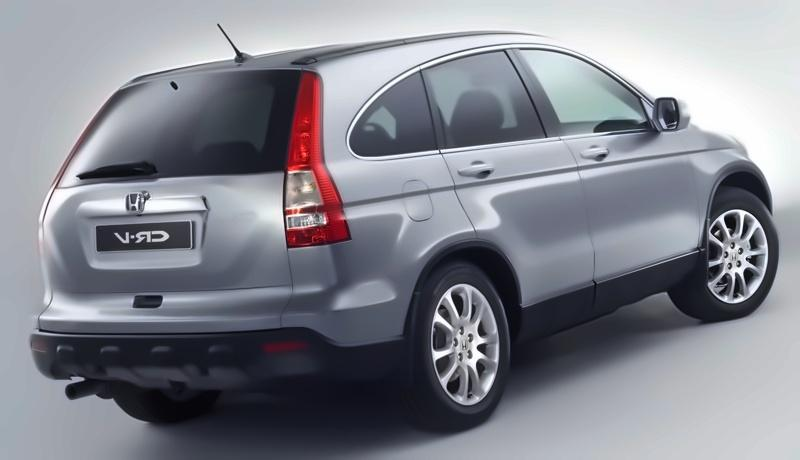Car boot: (36, 65, 306, 337)
Driver-s door - -F-R-: (519, 42, 701, 319)
Fender - -F-R-: (681, 114, 756, 261)
Fender - -R-R-: (340, 150, 483, 316)
Passenger-s door - -R-R-: (419, 41, 594, 311)
Rear bumper: (17, 248, 420, 399)
Rear light - -R-: (277, 63, 359, 256)
Side bumper - -R-: (508, 243, 717, 351)
Side mirror - -R-: (640, 85, 695, 142)
